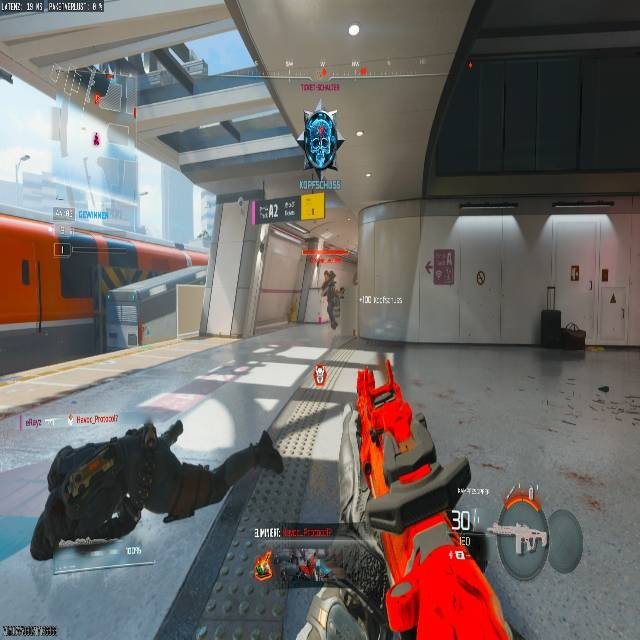head: (323, 269, 335, 282)
player: (297, 103, 343, 178), (319, 270, 345, 330)
